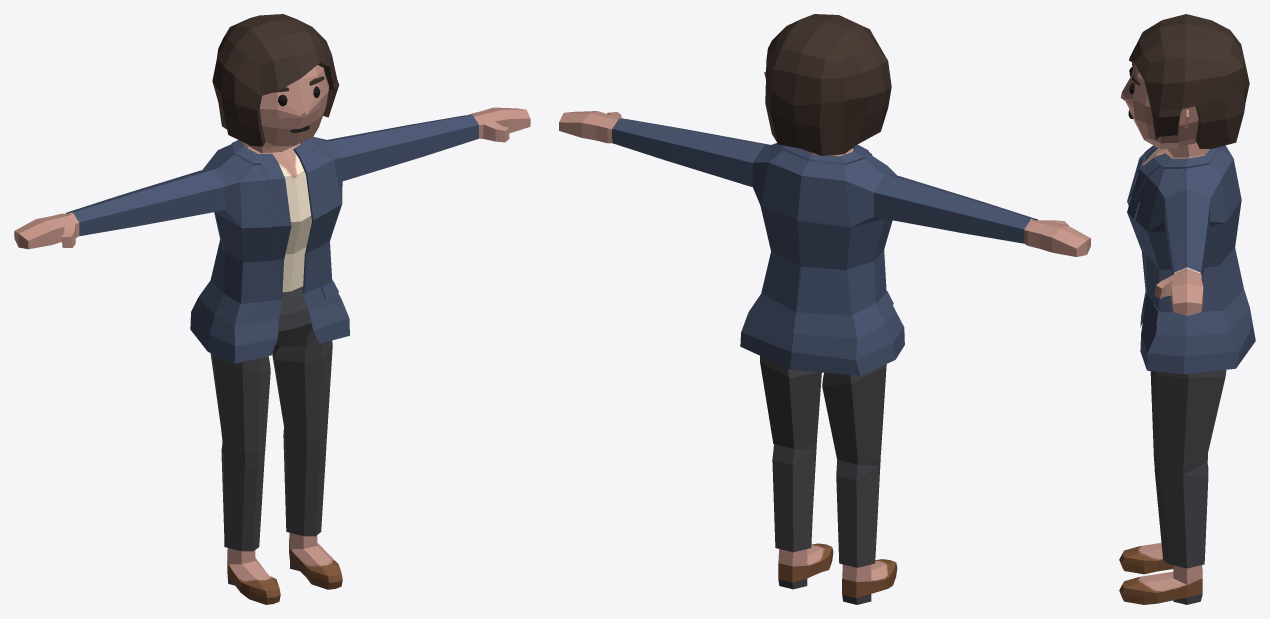
Rendered from npc_client_static.fbx.
3 views of the same model, side by side, from view 1: azimuth 30°, elevation 25°; view 2: azimuth 150°, elevation 25°; view 3: azimuth 270°, elevation 25° (orthographic). The views are drawn at different scales.
Visible parts, largest first — view 1: blaser, torso, hair, head; view 2: blaser, torso, hair; view 3: blaser, torso, hair, head.
Boxes of the visible parts, bbox=[...] form: blaser: bbox=[66, 115, 478, 363]; torso: bbox=[14, 107, 530, 604]; hair: bbox=[212, 14, 338, 146]; head: bbox=[259, 65, 328, 149]; blaser: bbox=[612, 118, 1037, 375]; torso: bbox=[559, 111, 1090, 604]; hair: bbox=[765, 14, 891, 155]; blaser: bbox=[1127, 145, 1255, 374]; torso: bbox=[1119, 143, 1226, 604]; hair: bbox=[1129, 14, 1249, 148]; head: bbox=[1120, 64, 1198, 148].
Size of the model in its own units: 667 by 693 by 153.
